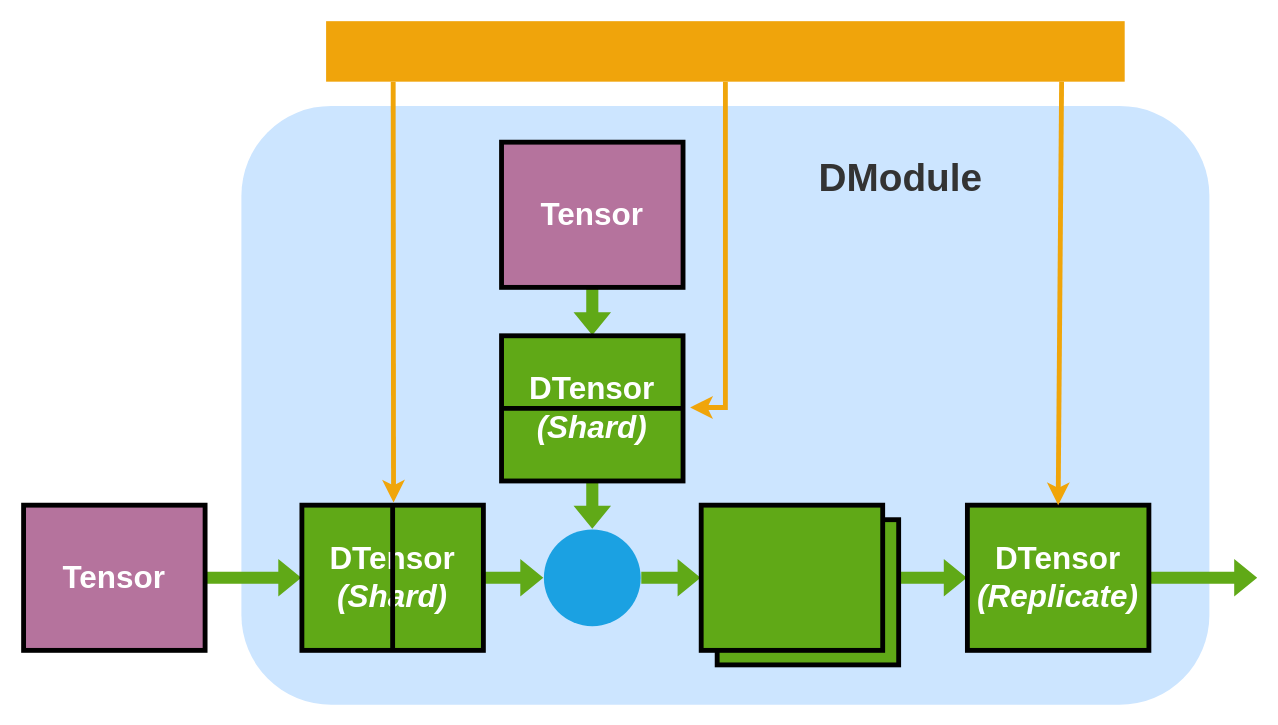
This 1278x725 diagram has some shape labels left out. Here are the shapes that lost their labels. From the top down, the box of each, then its label:
(325, 21, 1124, 81): Sharding Plan
(543, 529, 640, 626): mul
(698, 502, 885, 652): DTensor (Partial)
